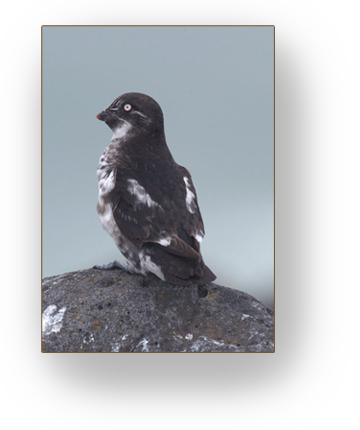006.Least_Auklet: (89, 93, 215, 294)
